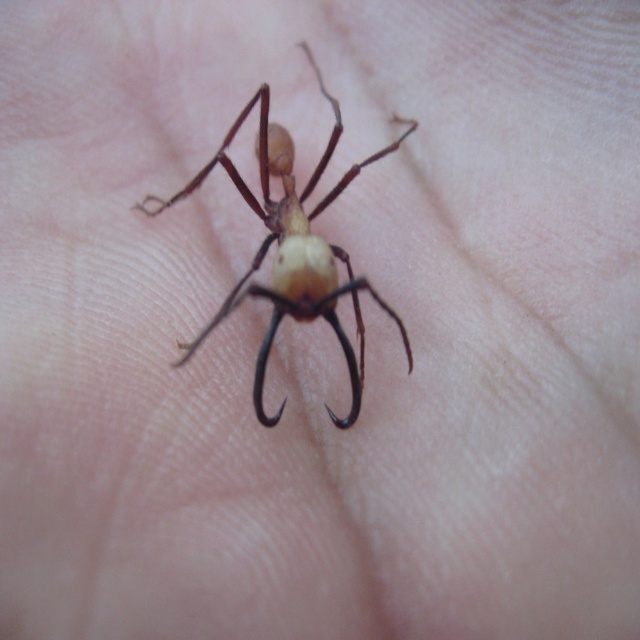Spider: (131, 40, 419, 429)
